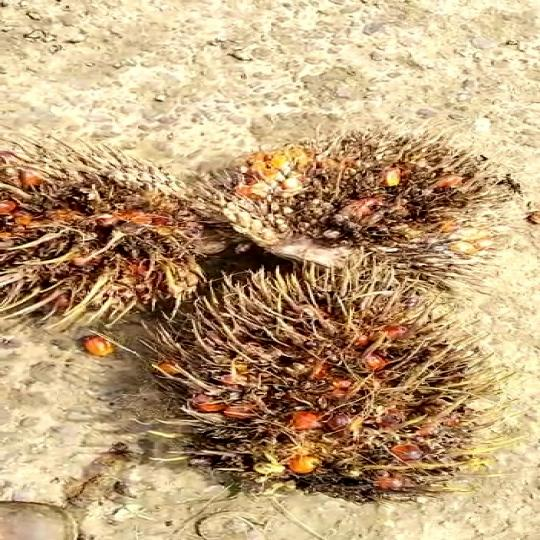terlalu masak: (174, 268, 499, 506), (0, 148, 231, 334), (210, 138, 503, 268)
